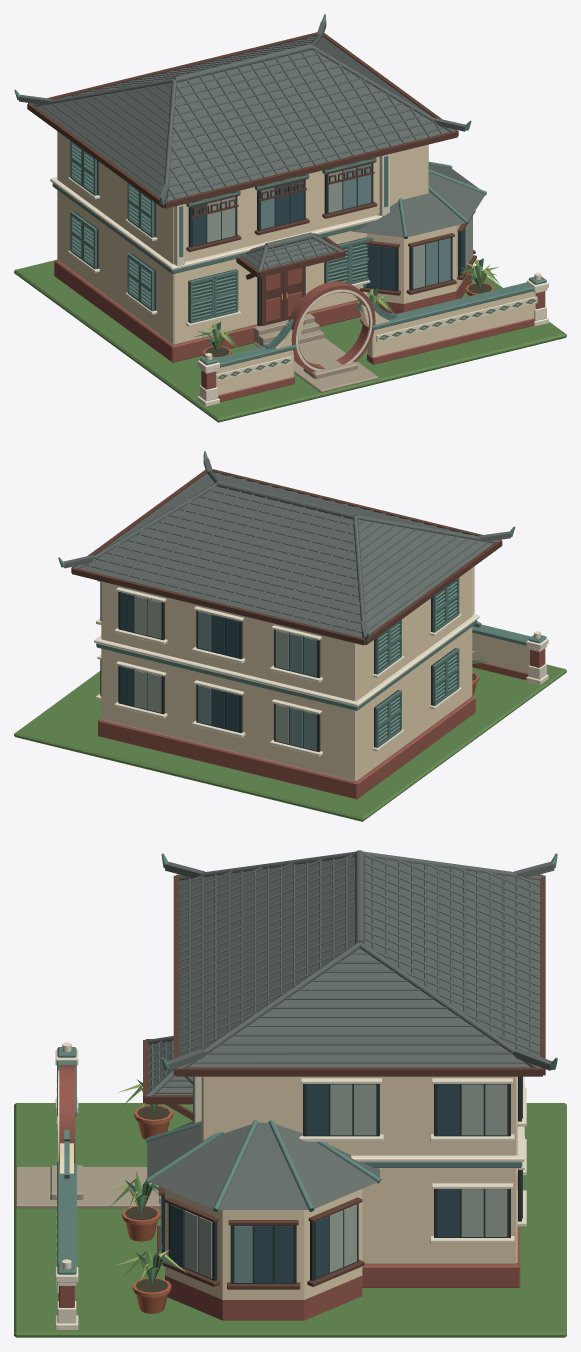
The picture shows the model from 3 angles, top to bottom: view 1: azimuth 30°, elevation 25°; view 2: azimuth 150°, elevation 25°; view 3: azimuth 270°, elevation 25°; orthographic projection. The views are drawn at different scales.
Visible parts, largest first — view 1: Roof covering, Muar garden residence, Moon gate court, Casements and sills, Louvred shutters, Octagonal tea bay, Eave fascia, Green tile coping, Entrance joinery, Encaustic tile frieze, Potted pandan, Stair treads (+1 smaller); view 2: Muar garden residence, Roof covering, Moon gate court, Casements and sills, Eave fascia, Louvred shutters, Green tile coping; view 3: Roof covering, Moon gate court, Muar garden residence, Casements and sills, Octagonal tea bay, Eave fascia, Green tile coping, Potted pandan.
Boxes of the visible parts, x1,y1,x2,y2 form: Roof covering: (30, 34, 455, 273); Muar garden residence: (50, 131, 428, 362); Moon gate court: (14, 260, 566, 422); Casements and sills: (186, 161, 476, 295); Louvred shutters: (68, 141, 372, 326); Octagonal tea bay: (351, 164, 485, 313); Eave fascia: (27, 32, 458, 277); Green tile coping: (14, 14, 534, 367); Entrance joinery: (257, 267, 305, 326); Encaustic tile frieze: (215, 296, 537, 381); Potted pandan: (195, 258, 499, 358); Stair treads: (254, 314, 324, 346); Muar garden residence: (94, 566, 479, 799); Roof covering: (73, 471, 499, 638); Moon gate court: (14, 631, 566, 821); Casements and sills: (96, 580, 322, 756); Eave fascia: (71, 469, 502, 645); Louvred shutters: (372, 578, 461, 751); Green tile coping: (58, 451, 530, 645); Roof covering: (144, 850, 543, 1098); Moon gate court: (14, 1042, 566, 1337); Muar garden residence: (165, 1076, 524, 1287); Casements and sills: (157, 1076, 526, 1289); Octagonal tea bay: (147, 1121, 379, 1320); Eave fascia: (143, 874, 545, 1104); Green tile coping: (57, 853, 557, 1266); Potted pandan: (105, 1079, 185, 1313).
Bounding box in the file's own units: 13.52 × 8.49 × 13.58.
